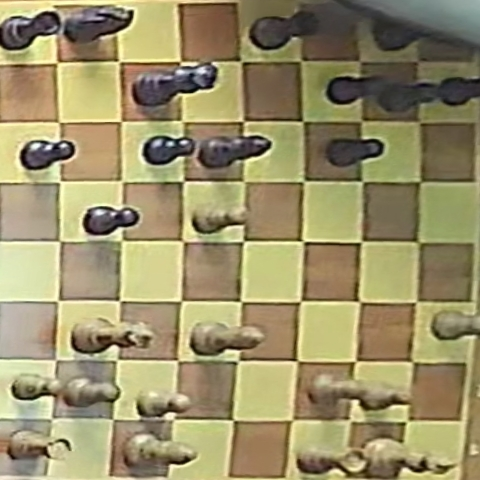black-bishop: (199, 135, 270, 167)
black-knight: (62, 5, 132, 45)
black-pawn: (377, 79, 441, 112), (328, 74, 393, 106), (326, 138, 384, 167), (22, 139, 75, 170), (85, 205, 139, 235), (144, 136, 195, 166), (436, 76, 478, 106)
black-queen: (135, 63, 216, 106)
black-rook: (252, 10, 319, 50), (1, 10, 62, 51)
white-bishop: (125, 432, 197, 467), (191, 322, 264, 354)
white-king: (357, 437, 460, 478)
white-pawn: (309, 374, 371, 407), (62, 378, 120, 408), (352, 382, 410, 410), (193, 204, 248, 233), (136, 389, 192, 417), (433, 311, 479, 340), (13, 373, 62, 400)
white-queen: (74, 317, 152, 353)
white-rook: (297, 446, 367, 476), (7, 431, 71, 461)
